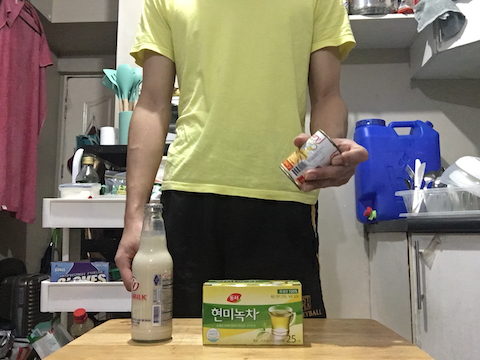bottle: (128, 203, 175, 345)
box: (197, 276, 309, 351)
can: (277, 126, 344, 193)
grab: (299, 143, 370, 198)
